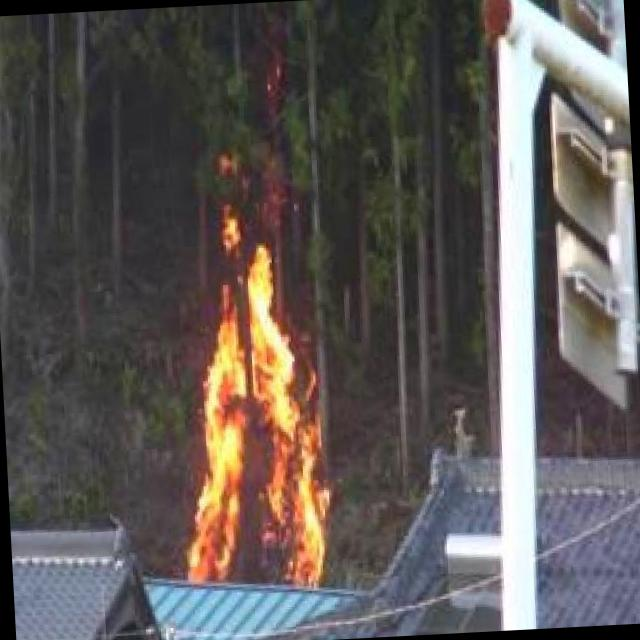Fire: (161, 202, 342, 582)
